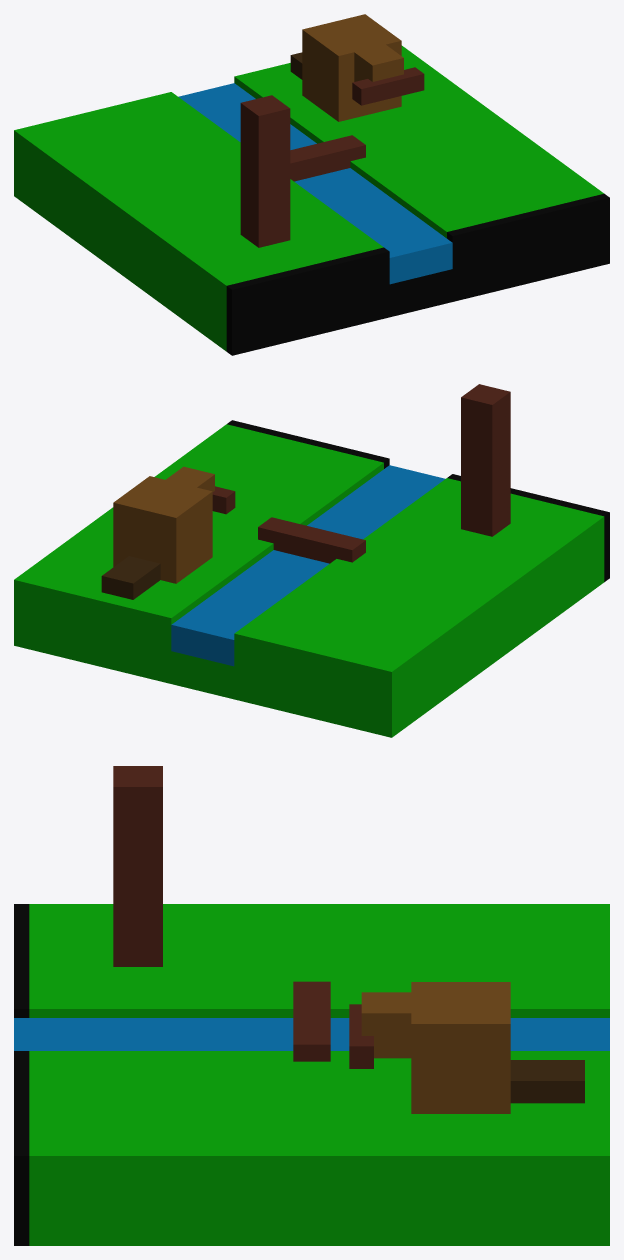
File: Beaver.fbx
3 views of the same model, one above another, from view 1: azimuth 30°, elevation 25°; view 2: azimuth 150°, elevation 25°; view 3: azimuth 270°, elevation 25° (orthographic). The views are drawn at different scales.
Visible parts, largest first — view 1: Land, Beaver, Tree, Dam, Log; view 2: Land, Beaver, Tree, Dam, Log; view 3: Land, Beaver, Tree, Dam, Log.
Boxes of the visible parts, <box> form: Land: <box>14,45,609,355</box>; Beaver: <box>290,14,403,121</box>; Tree: <box>240,95,290,247</box>; Dam: <box>290,135,365,181</box>; Log: <box>352,67,424,105</box>; Land: <box>14,420,609,737</box>; Beaver: <box>101,466,214,599</box>; Tree: <box>461,384,510,536</box>; Dam: <box>258,517,365,563</box>; Log: <box>212,486,235,514</box>; Land: <box>14,904,609,1245</box>; Beaver: <box>361,982,584,1113</box>; Tree: <box>113,766,162,966</box>; Dam: <box>293,981,330,1061</box>; Log: <box>349,1004,373,1068</box>.
Bounding box in the file's own units: 1200 × 600 × 1200.
